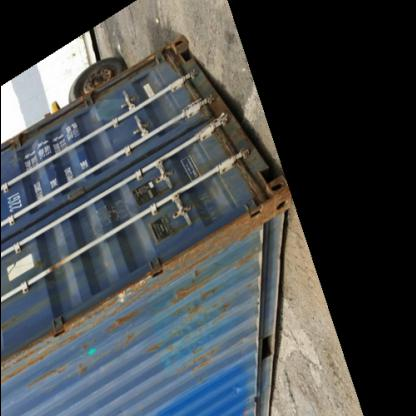Damage: (163, 243, 261, 274), (169, 346, 231, 380), (91, 195, 131, 230), (167, 278, 216, 304), (154, 214, 186, 236), (101, 312, 139, 330), (23, 367, 65, 383), (31, 257, 63, 276), (72, 354, 93, 377), (139, 342, 157, 356), (225, 386, 243, 394)
